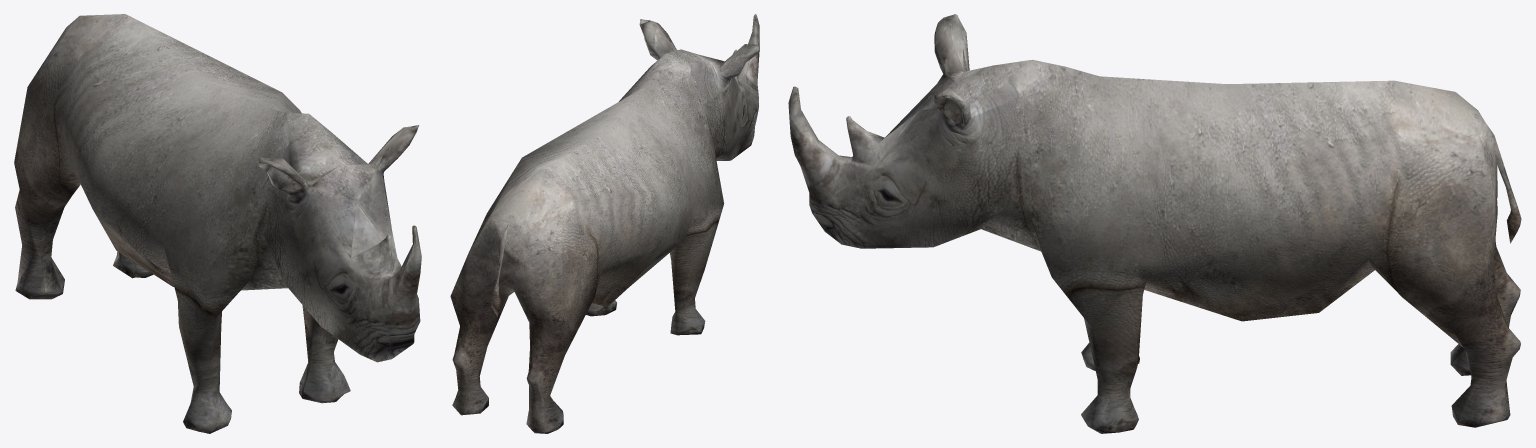
File: rhinoanimaltest2.gltf
3 views of the same model, side by side, from view 1: azimuth 30°, elevation 25°; view 2: azimuth 150°, elevation 25°; view 3: azimuth 270°, elevation 25° (orthographic). The views are drawn at different scales.
Visible parts, largest first — view 1: Rhino.1; view 2: Rhino.1; view 3: Rhino.1.
Part boxes in pixels (left/top/right/bottom): Rhino.1: left=14, top=14, right=421, bottom=433; Rhino.1: left=450, top=14, right=759, bottom=433; Rhino.1: left=788, top=14, right=1521, bottom=433.
Size of the model in its own units: 20.26 by 29.78 by 57.76.
1 material, 1 textured.
